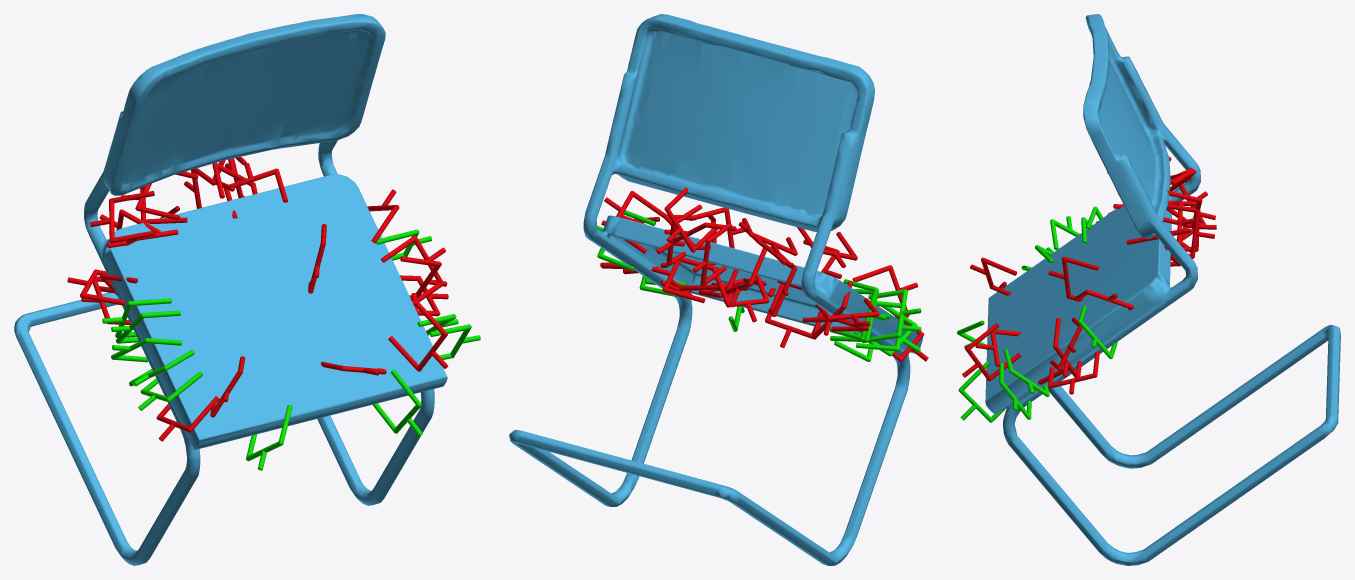
Rendered from se3_chair1.glb.
3 renders of one model, left to right at view 1: azimuth 30°, elevation 25°; view 2: azimuth 150°, elevation 25°; view 3: azimuth 270°, elevation 25°, orthographic. The views are drawn at different scales.
Parts seen in each view (by area): view 1: mesh, gripper_13.002, gripper_1.002, gripper_35.002, gripper_32.002, gripper_23.002, gripper_42.002, gripper_38.002, gripper_34.002, gripper_26.001, gripper_7.001, gripper_36.002; view 2: mesh, gripper_42.002, gripper_57.001, gripper_16.002, gripper_48.001, gripper_53.002, gripper_6.002, gripper_2.002, gripper_47.002, gripper_18.002, gripper_36.002, gripper_40.001 (+1 smaller); view 3: mesh, gripper_1.002, gripper_32.002, gripper_51.002, gripper_8.002, gripper_52.002, gripper_3.002.
Part boxes in pixels (x1,y1,x2,y2): mesh: [14, 14, 447, 565]; gripper_13.002: [90, 191, 155, 243]; gripper_1.002: [388, 301, 448, 371]; gripper_35.002: [381, 235, 445, 305]; gripper_32.002: [372, 369, 422, 436]; gripper_23.002: [246, 405, 292, 470]; gripper_42.002: [111, 338, 181, 362]; gripper_38.002: [223, 163, 287, 218]; gripper_34.002: [156, 396, 219, 441]; gripper_26.001: [111, 310, 180, 343]; gripper_7.001: [138, 371, 202, 410]; gripper_36.002: [102, 298, 171, 338]; mesh: [509, 14, 923, 565]; gripper_42.002: [862, 289, 921, 342]; gripper_57.001: [664, 187, 718, 252]; gripper_16.002: [651, 257, 719, 303]; gripper_48.001: [711, 267, 769, 322]; gripper_53.002: [692, 223, 731, 286]; gripper_6.002: [604, 191, 666, 253]; gripper_2.002: [856, 301, 921, 351]; gripper_47.002: [725, 248, 766, 307]; gripper_18.002: [765, 283, 823, 347]; gripper_36.002: [830, 279, 886, 340]; gripper_40.001: [802, 317, 870, 331]; mesh: [985, 14, 1340, 565]; gripper_1.002: [962, 323, 1021, 381]; gripper_32.002: [958, 361, 1005, 422]; gripper_51.002: [1048, 351, 1099, 394]; gripper_8.002: [1048, 256, 1098, 301]; gripper_52.002: [970, 257, 1016, 295]; gripper_3.002: [1167, 204, 1214, 258].
Bounding box in the file's own units: 8.99 × 13.09 × 9.92.
